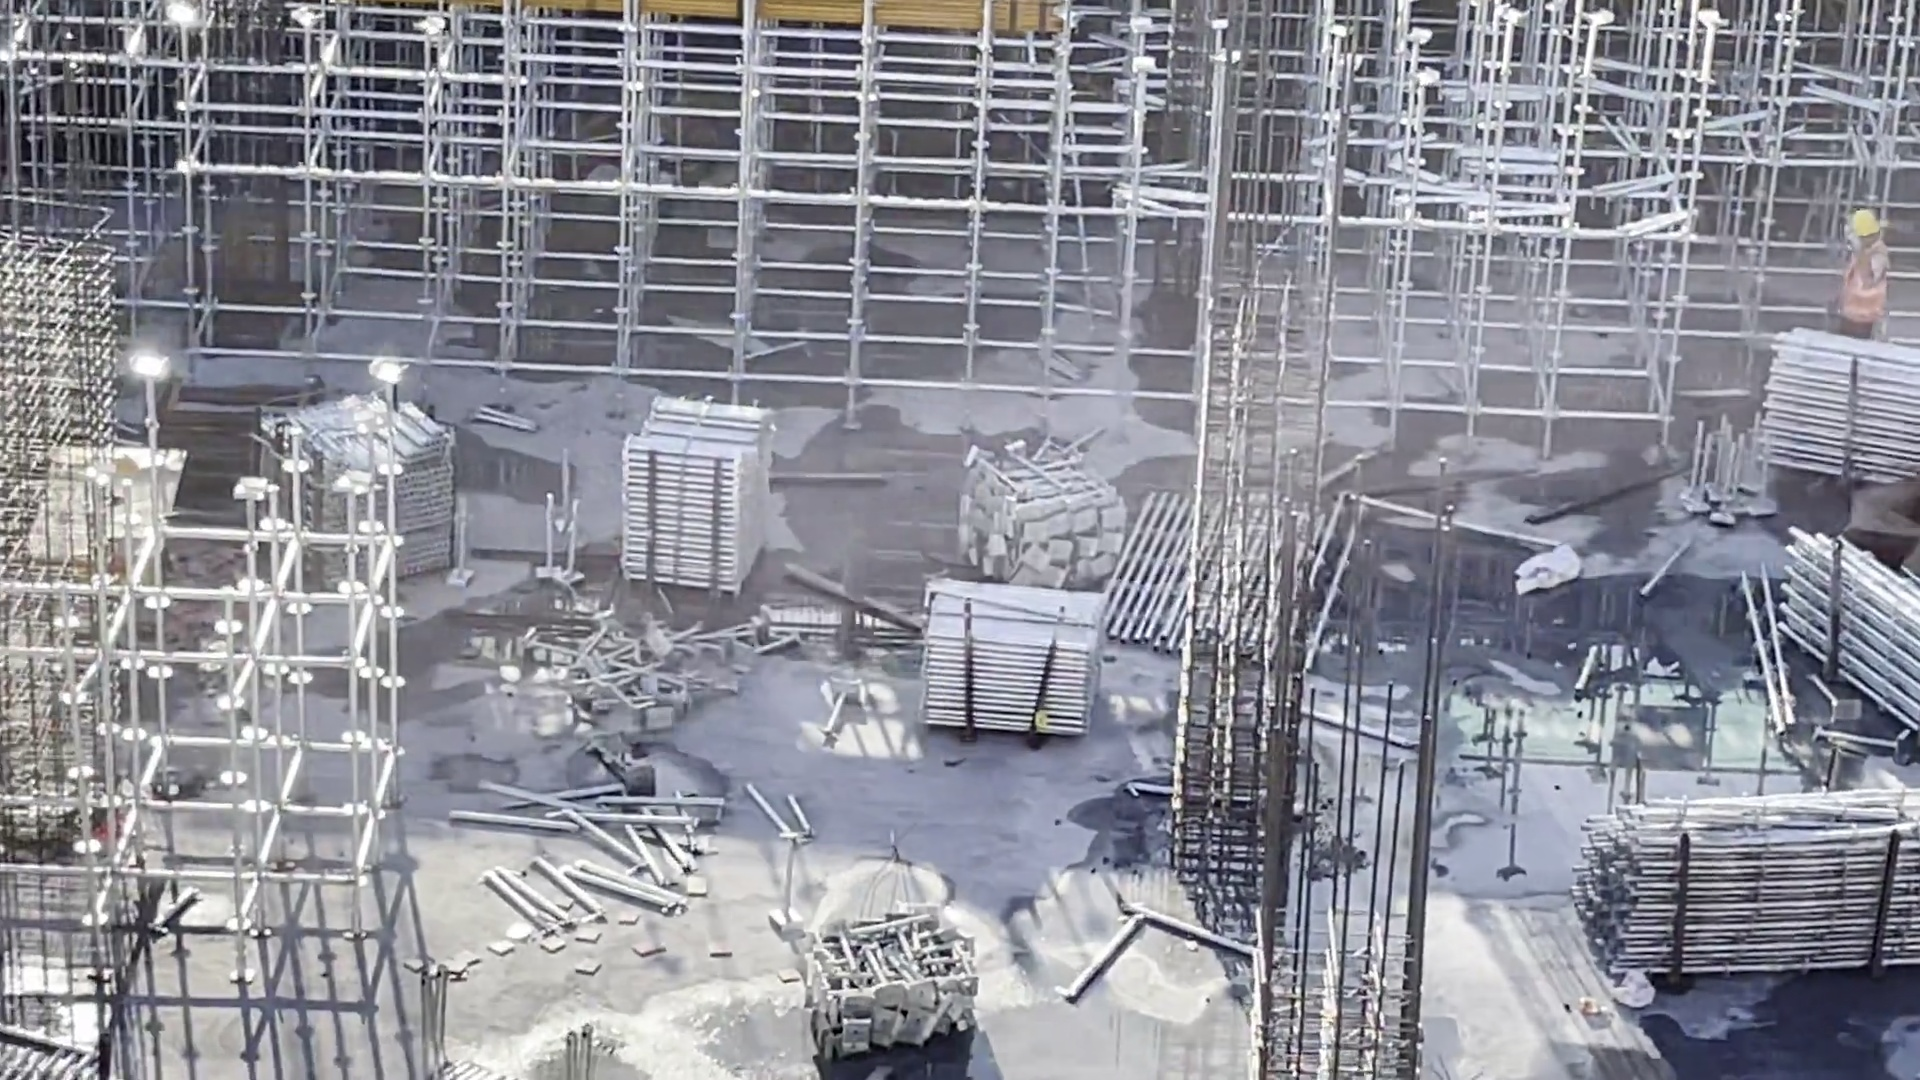helmet: (1844, 206, 1884, 238)
person: (1841, 205, 1888, 350)
scaffold: (1576, 793, 1920, 972), (273, 388, 463, 593), (592, 393, 771, 603), (790, 902, 1015, 1066), (902, 574, 1117, 736), (1773, 503, 1920, 734), (1757, 304, 1920, 495), (952, 441, 1113, 592), (552, 621, 738, 743)
vest: (1849, 253, 1880, 317)
